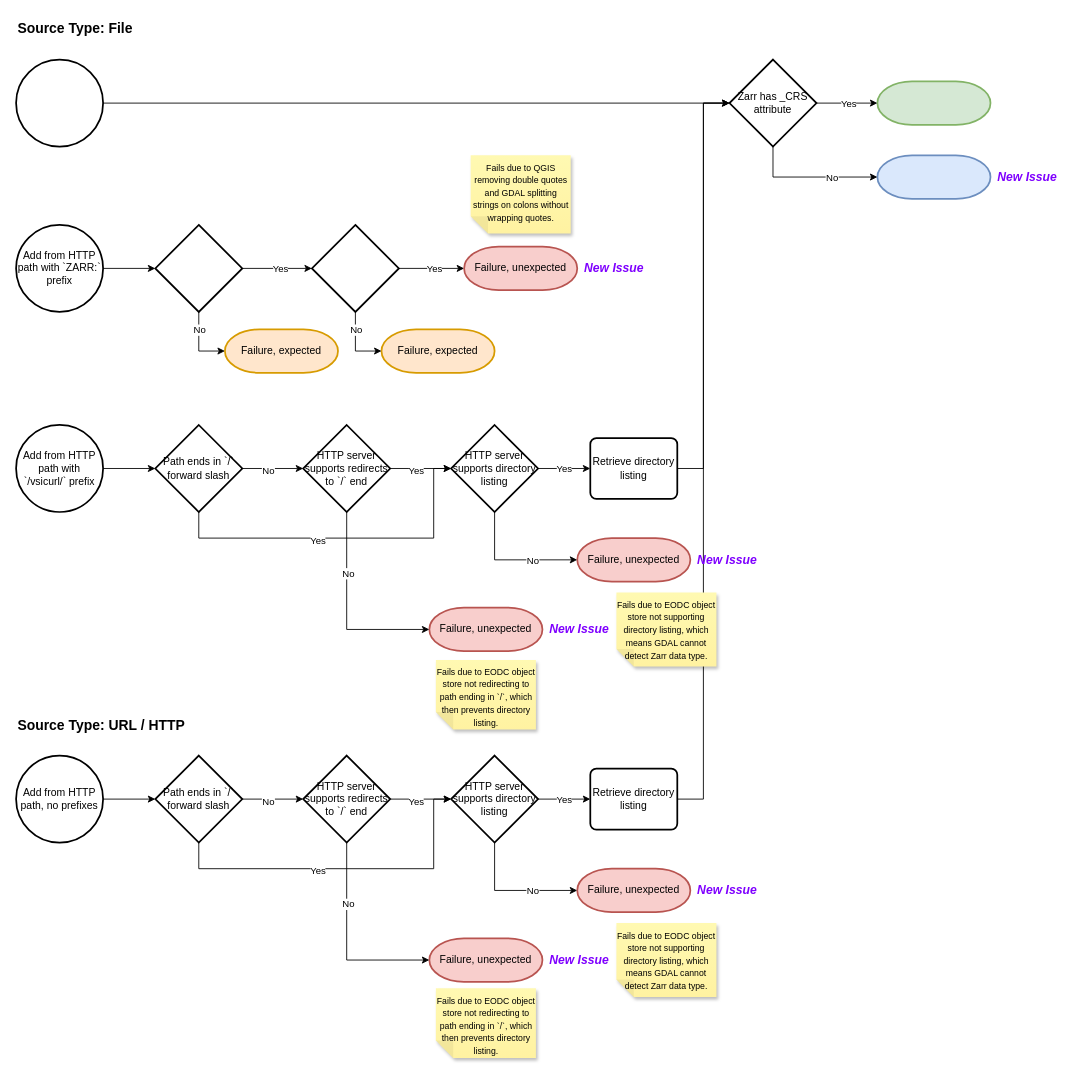
This 1079x1079 diagram has some shape labels left out. Here are the shapes that lost their labels. From the top down, the centre of each, then its label:
point (59, 102): Add from local path (no special prefix or quoting)
point (933, 102): Success
point (933, 176): Partial Success (no spatial reference)
point (198, 268): Path after `ZARR:` prefix is double-quoted
point (355, 268): Path starts "/vsicurl/..."
